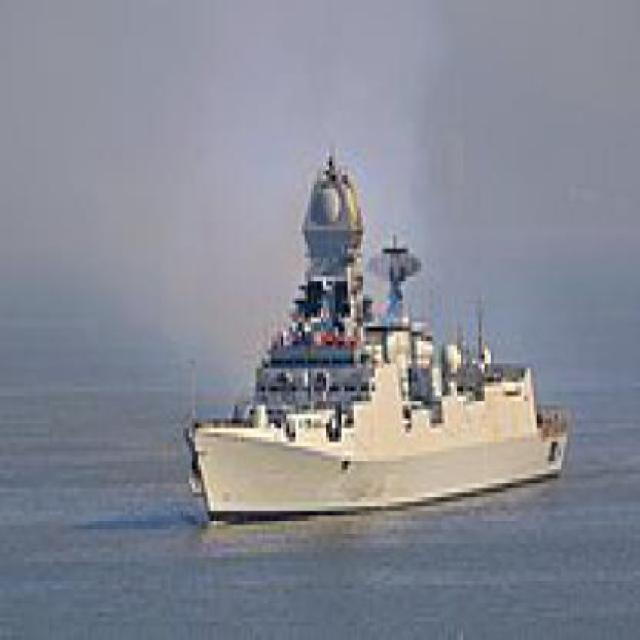warship2: (174, 88, 596, 559)
